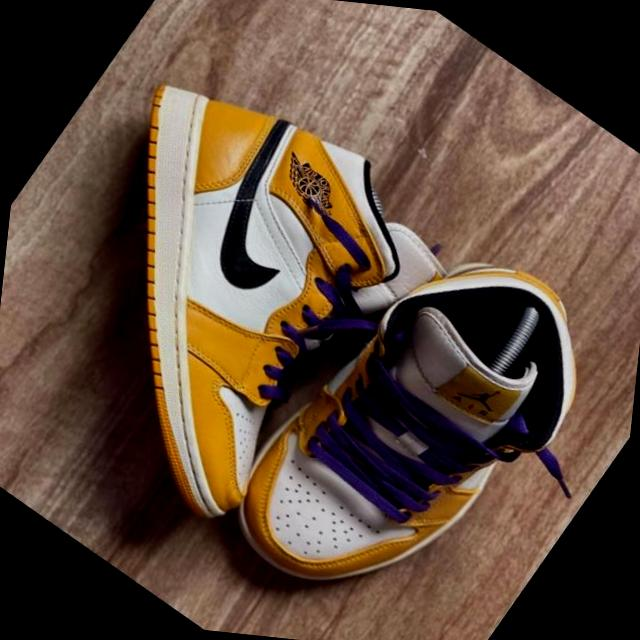nike_original_jordan: (0, 17, 463, 548), (196, 183, 640, 640)
